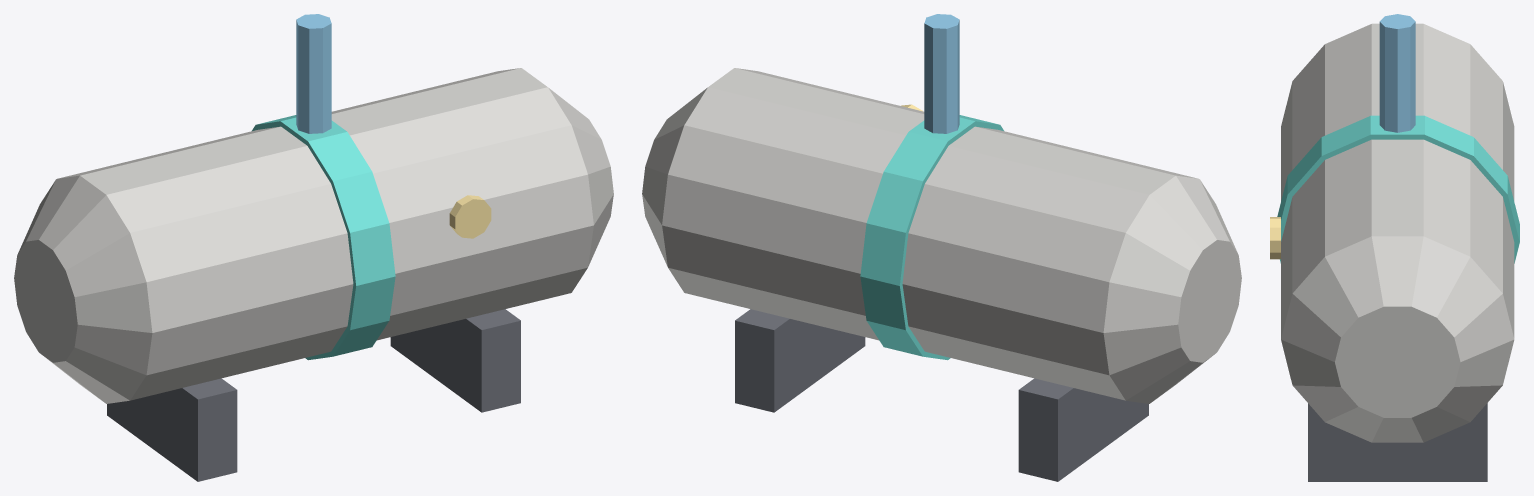
The model's file is AirTank.fbx.
3 renders of one model, left to right at view 1: azimuth 30°, elevation 25°; view 2: azimuth 150°, elevation 25°; view 3: azimuth 270°, elevation 25°, orthographic.
Parts seen in each view (by area): view 1: AirTank; view 2: AirTank; view 3: AirTank.
Part boxes in pixels (x1,y1,x2,y2): AirTank: [14, 14, 613, 481]; AirTank: [642, 14, 1241, 481]; AirTank: [1270, 14, 1519, 481].
Bounding box in the file's own units: 3.4 × 2.35 × 1.39.
